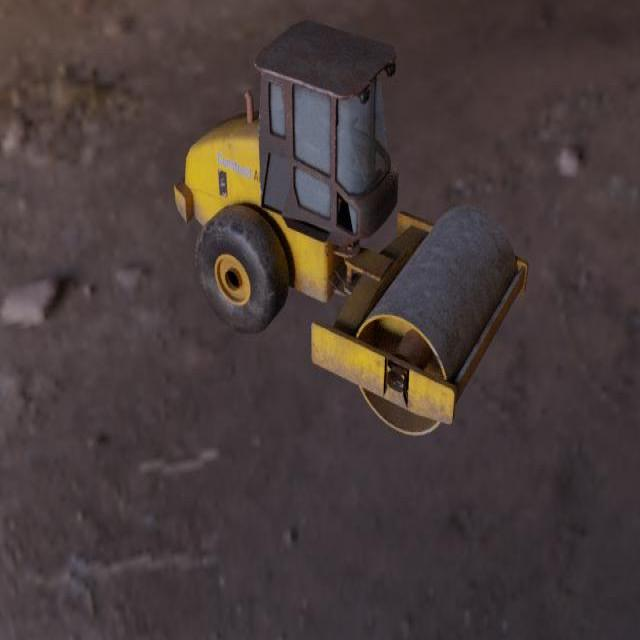Roller: (173, 18, 529, 434)
